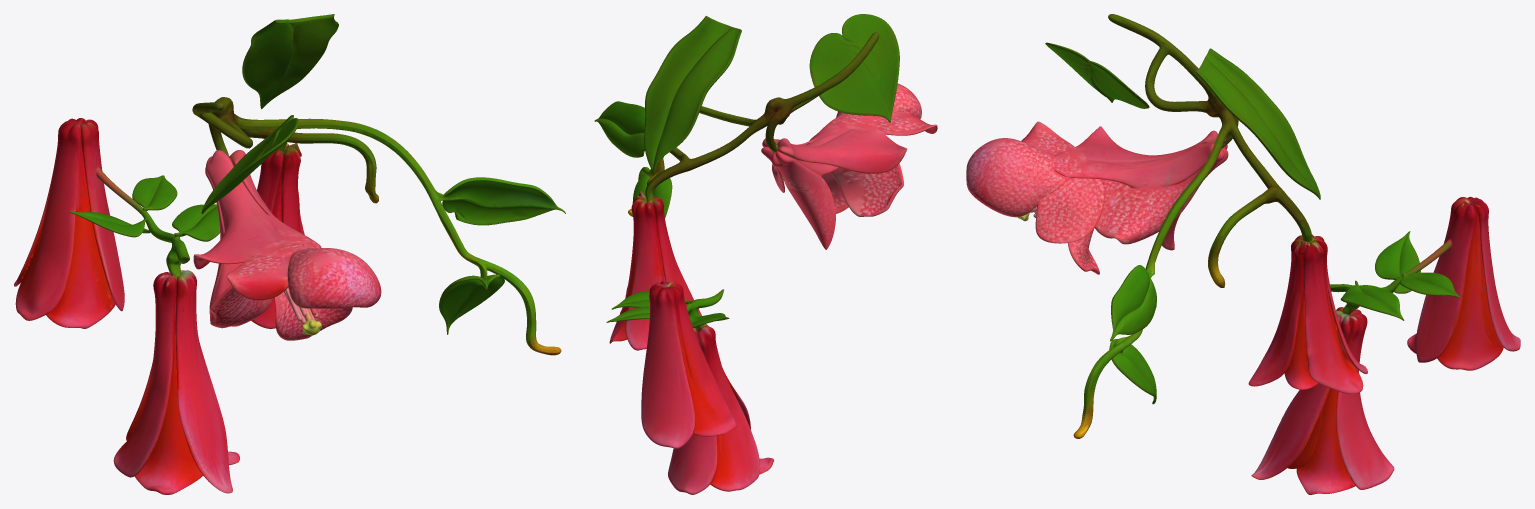
The model's file is copihue.glb.
The picture shows the model from 3 angles, left to right: view 1: azimuth 30°, elevation 25°; view 2: azimuth 150°, elevation 25°; view 3: azimuth 270°, elevation 25°; orthographic projection. The views are drawn at different scales.
Parts seen in each view (by area): view 1: material; view 2: material; view 3: material.
Boxes of the visible parts, box(x1,y1,x2,y2) form: material: box(14, 14, 565, 494); material: box(594, 14, 937, 494); material: box(966, 14, 1520, 494).
Size of the model in its own units: 0.718 by 0.8846 by 1.01.
1 material, 1 textured.
